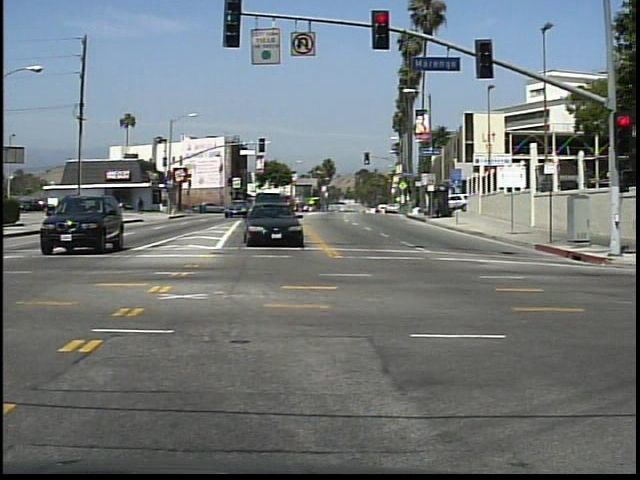person: (137, 195, 149, 217)
